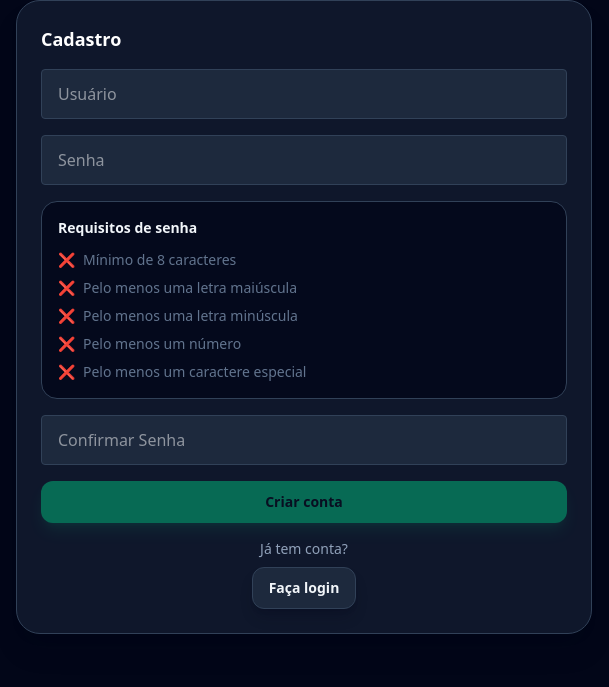
RegisterForm › keeps submit disabled until the password is strong and confirmation matches
This screenshot has width=609, height=687.
Expected: the button "Criar conta" is disabled, x1=41 y1=481 x2=567 y2=523
In the field with placeholder "Usuário": x=304, y=94 x1=41 y1=69 x2=567 y2=119, type "newuser"
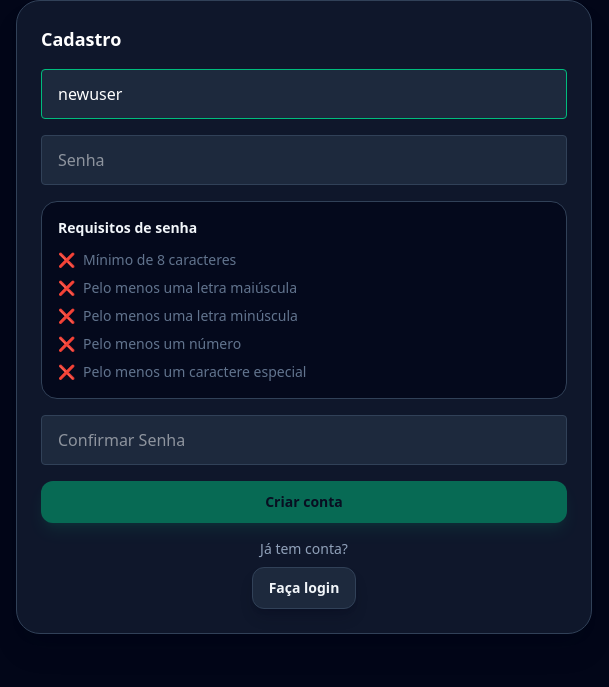
In the password field with placeholder "Senha": x=304, y=160 x1=41 y1=135 x2=567 y2=185, type "Abc1234!"
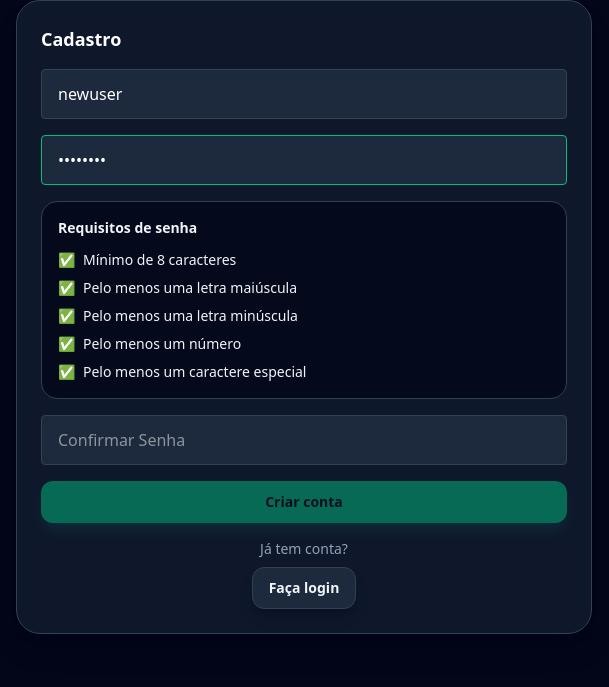
In the password field with placeholder "Confirmar Senha": x=304, y=440 x1=41 y1=415 x2=567 y2=465, type "Abc1234!"
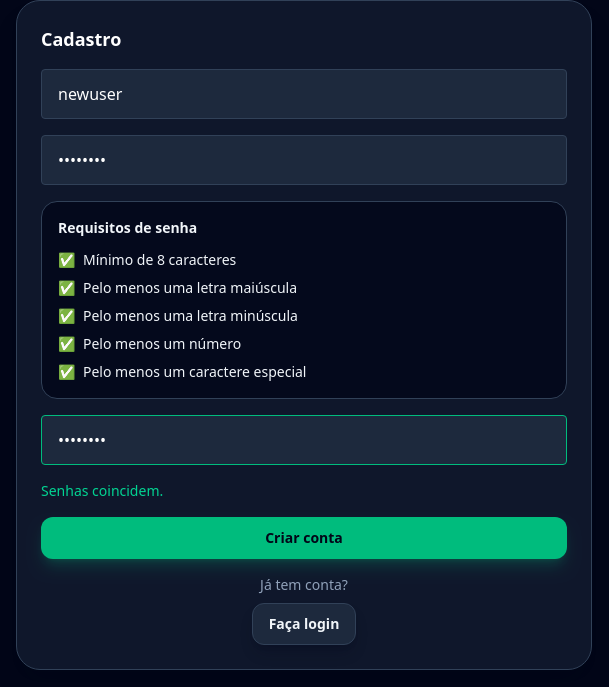
Now the text "✅" next to "Mínimo de 8 caracteres" is shown, box x1=58 y1=250 x2=75 y2=269
Now the text "✅" next to "Pelo menos uma letra maiúscula" is shown, box x1=58 y1=278 x2=75 y2=297
Now the button "Criar conta" is enabled, box x1=41 y1=517 x2=567 y2=559
